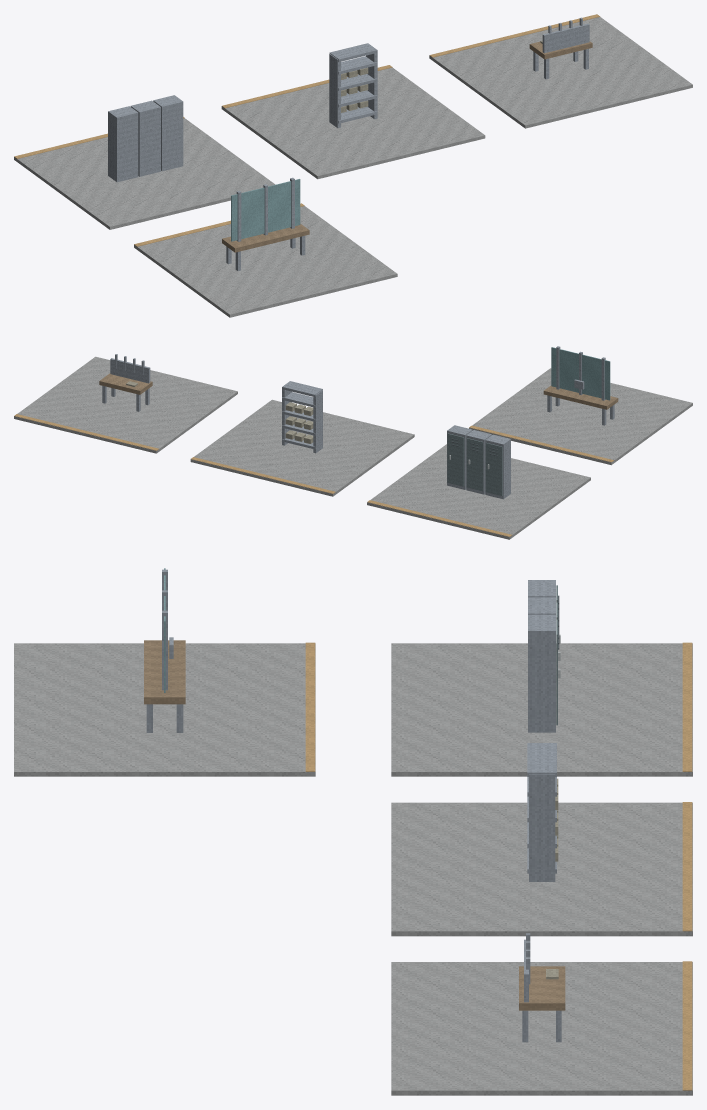
File: level_blockout_kit_prison_p04.glb
The picture shows the model from 3 angles, top to bottom: view 1: azimuth 30°, elevation 25°; view 2: azimuth 150°, elevation 25°; view 3: azimuth 270°, elevation 25°; orthographic projection. The views are drawn at different scales.
Parts seen in each view (by area): view 1: level_blockout_kit_prison_p04; view 2: level_blockout_kit_prison_p04; view 3: level_blockout_kit_prison_p04.
Boxes of the visible parts, bbox=[...] form: level_blockout_kit_prison_p04: bbox=[14, 14, 692, 317]; level_blockout_kit_prison_p04: bbox=[14, 346, 692, 539]; level_blockout_kit_prison_p04: bbox=[14, 568, 692, 1095].
Size of the model in its own units: 19.65 by 2.48 by 12.6.
9 materials, 9 textured.
